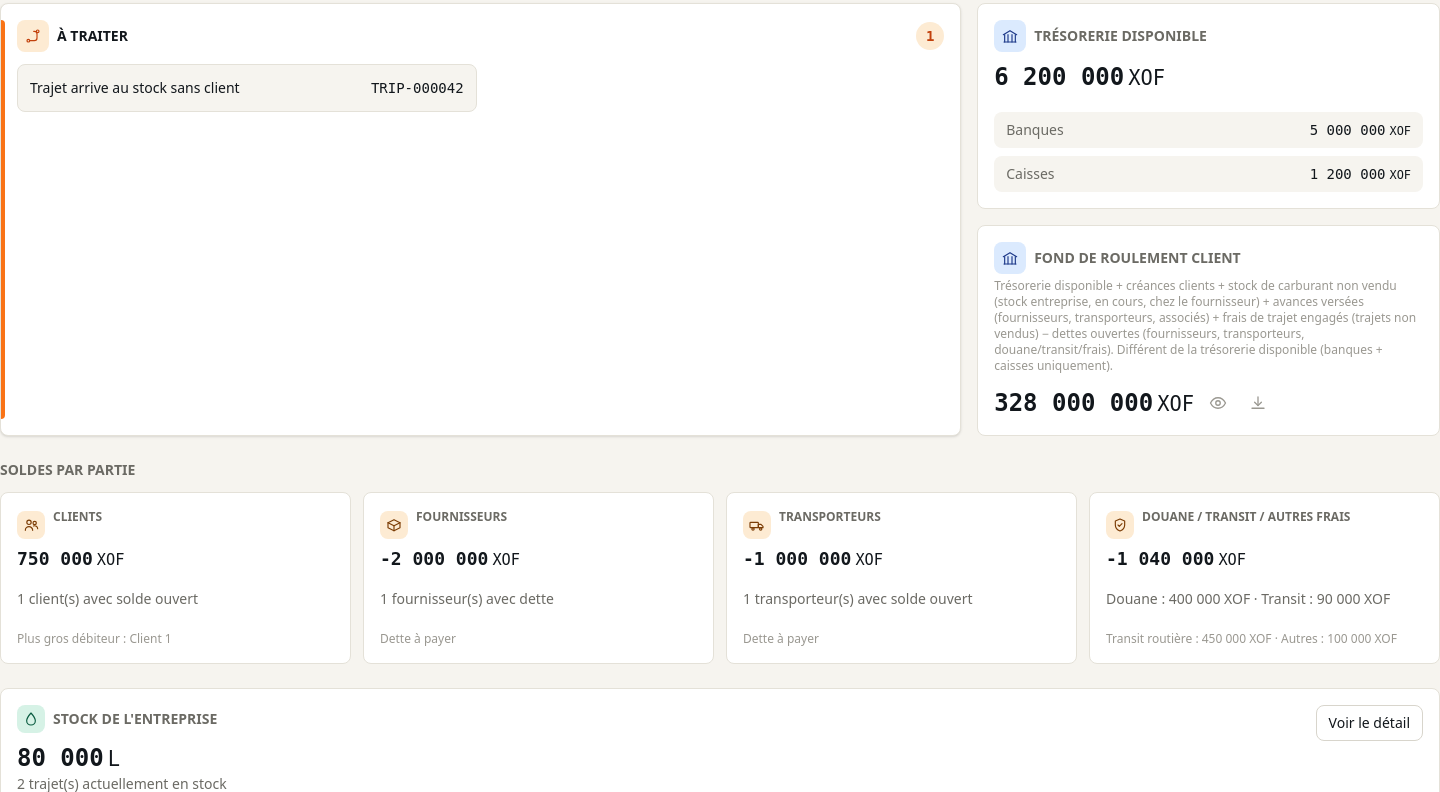
it: DashboardView › shows the en-cours and company-stock pipeline values as their own lines
The image size is (1440, 792).
(page scrolled)
What coordinates should you click on to do the following:
click the button with test id "working-capital-toggle"
I would click on:
 (1218, 402)
Its box is [1202,386,1234,418].
(page scrolled)
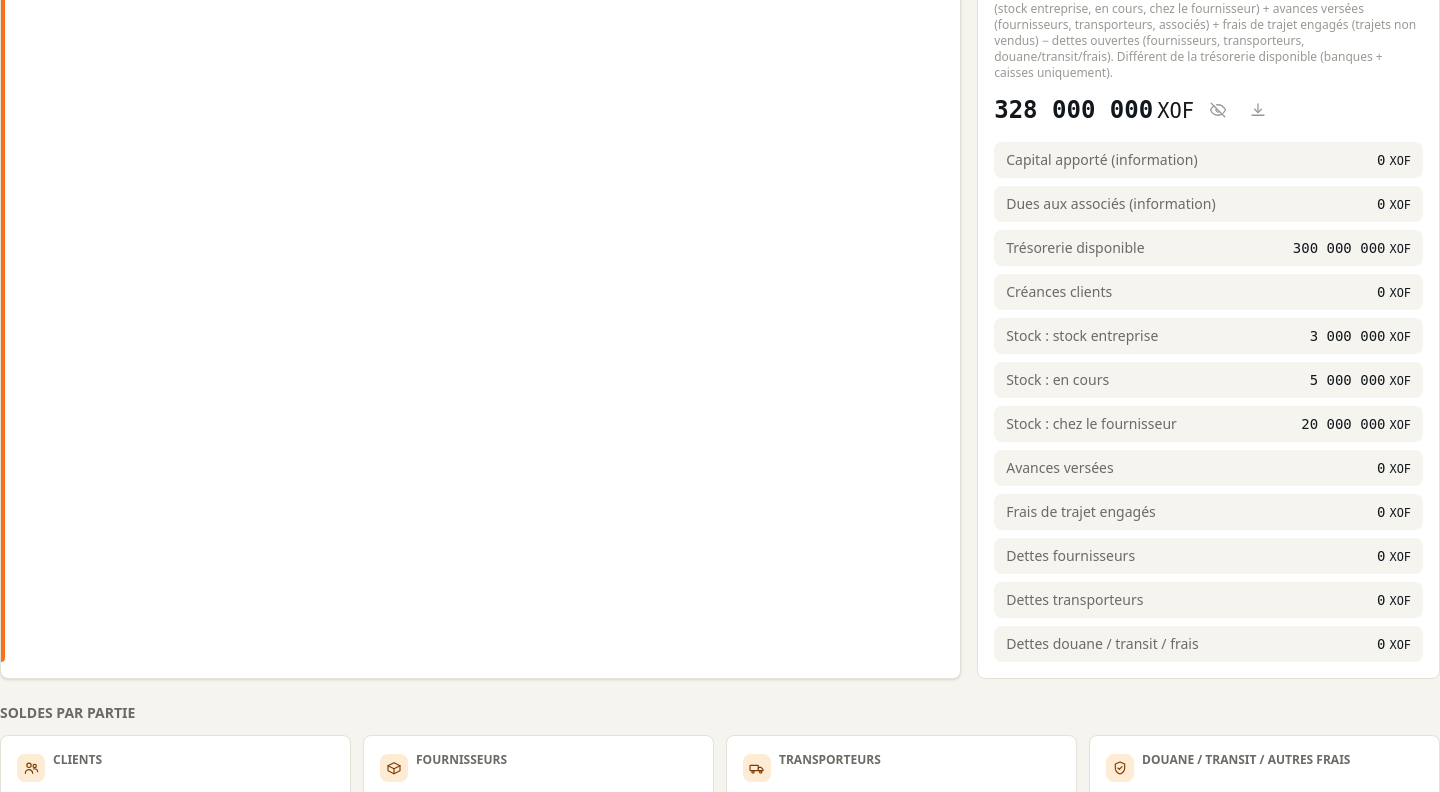
Result: the element with test id "working-capital-detail" shows "5 000 000 XOF" at [994,142,1423,662]
Result: the element with test id "working-capital-detail" shows "3 000 000 XOF" at [994,142,1423,662]
